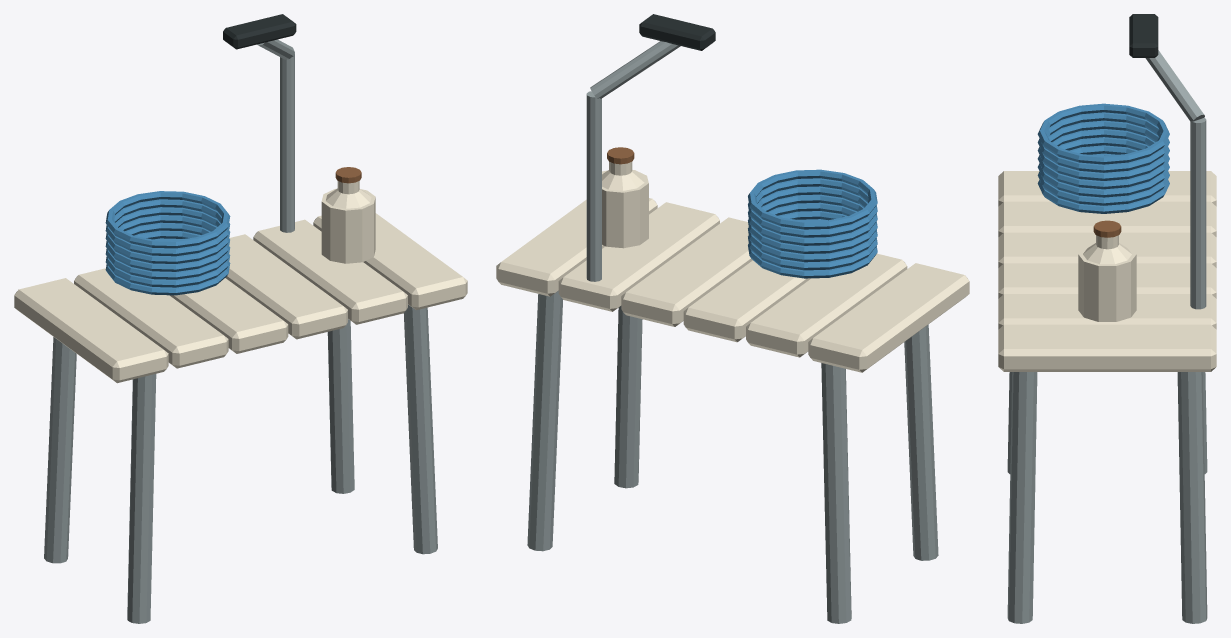
File: Boat_Wash_Station.glb
The picture shows the model from 3 angles, left to right: view 1: azimuth 30°, elevation 25°; view 2: azimuth 150°, elevation 25°; view 3: azimuth 270°, elevation 25°; orthographic projection. The views are drawn at different scales.
Parts seen in each view (by area): view 1: Boat_Wash_Station; view 2: Boat_Wash_Station; view 3: Boat_Wash_Station.
Part boxes in pixels (x1,y1,x2,y2): Boat_Wash_Station: [14, 14, 467, 623]; Boat_Wash_Station: [496, 14, 969, 623]; Boat_Wash_Station: [998, 14, 1216, 623].
Bounding box in the file's own units: 1.19 × 1.62 × 0.6.
